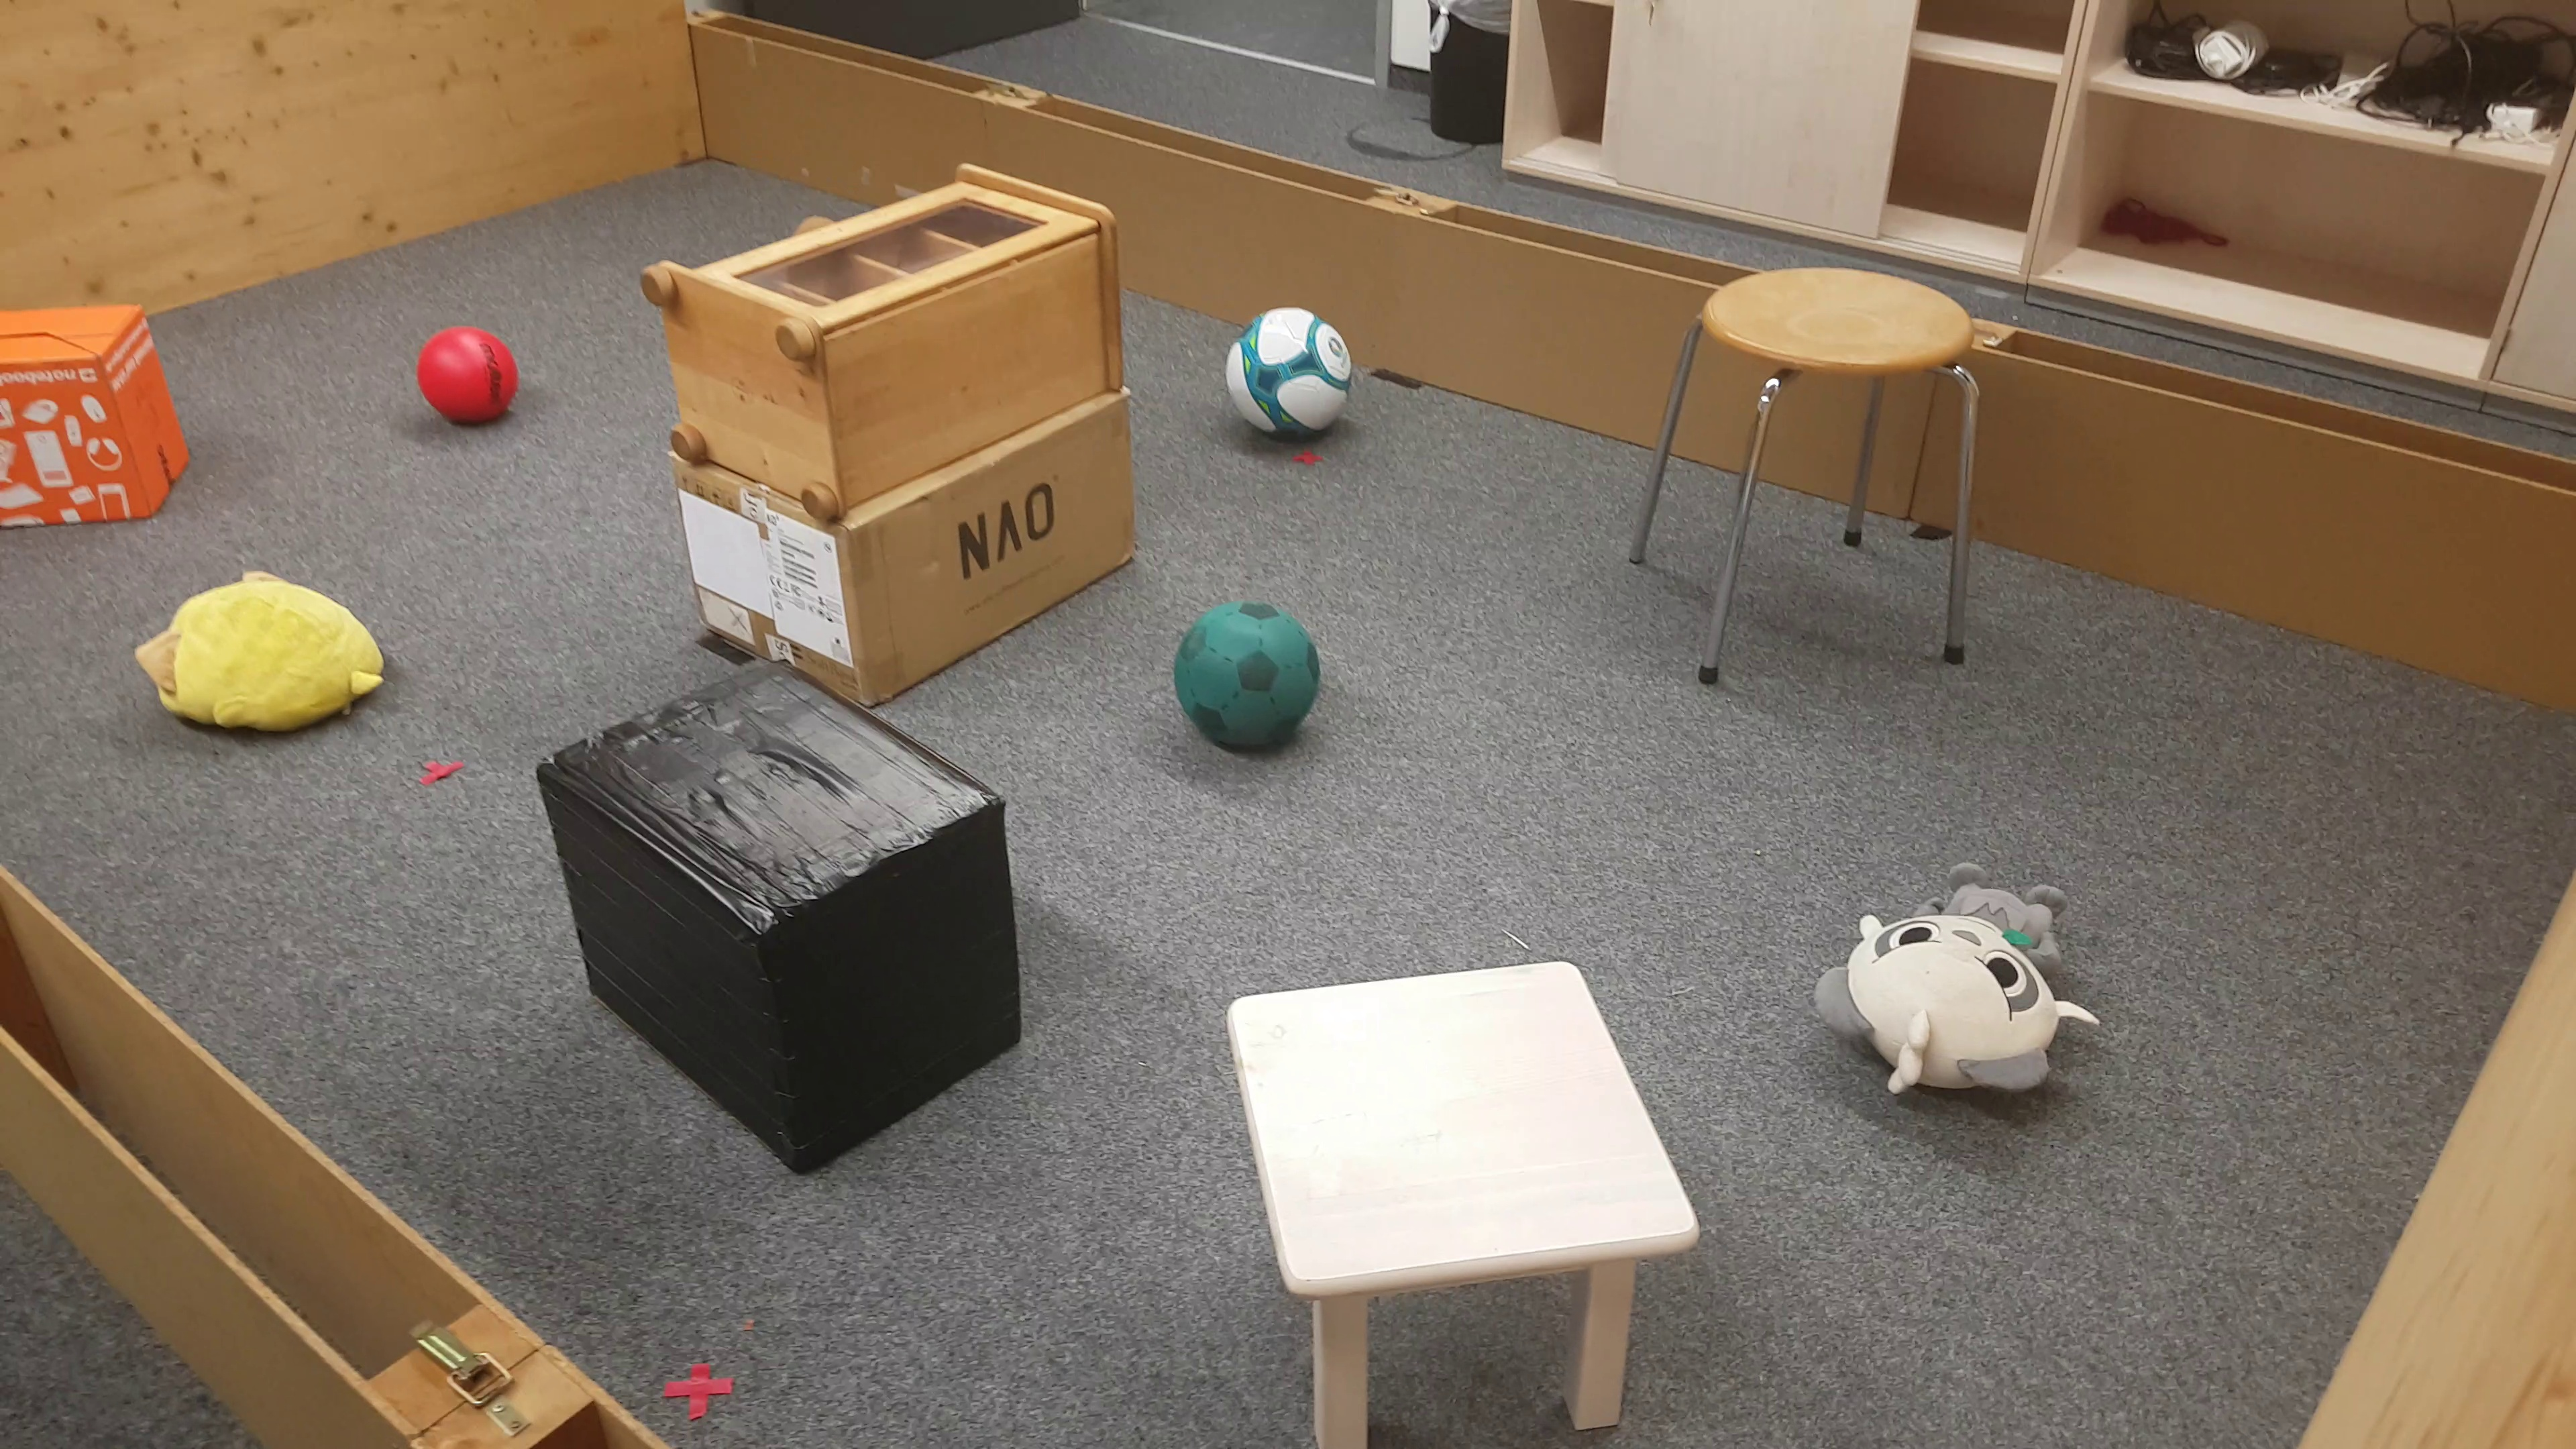grasp: (1821, 863, 2095, 1104), (140, 559, 387, 747)
kick: (1182, 596, 1318, 775), (1224, 304, 1350, 446), (423, 324, 522, 426)
push: (538, 658, 1024, 1175), (0, 306, 200, 541)
